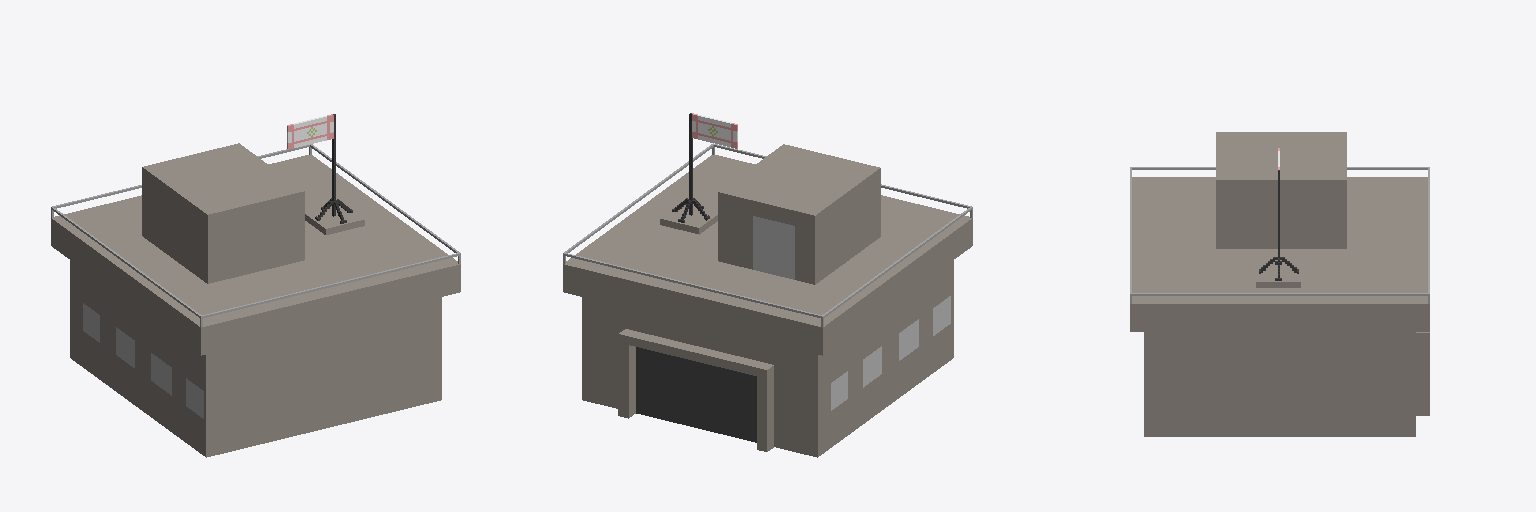
3 renders of one model, left to right at view 1: azimuth 30°, elevation 25°; view 2: azimuth 150°, elevation 25°; view 3: azimuth 270°, elevation 25°, orthographic.
Parts seen in each view (by area): view 1: 01-2; view 2: 01-2; view 3: 01-2.
Boxes of the visible parts, x1,y1,x2,y2 form: 01-2: [51, 114, 460, 457]; 01-2: [563, 113, 972, 457]; 01-2: [1130, 132, 1429, 436].
Bounding box in the file's own units: 126 × 114 × 126.
Materials: 1 (1 with a texture image).